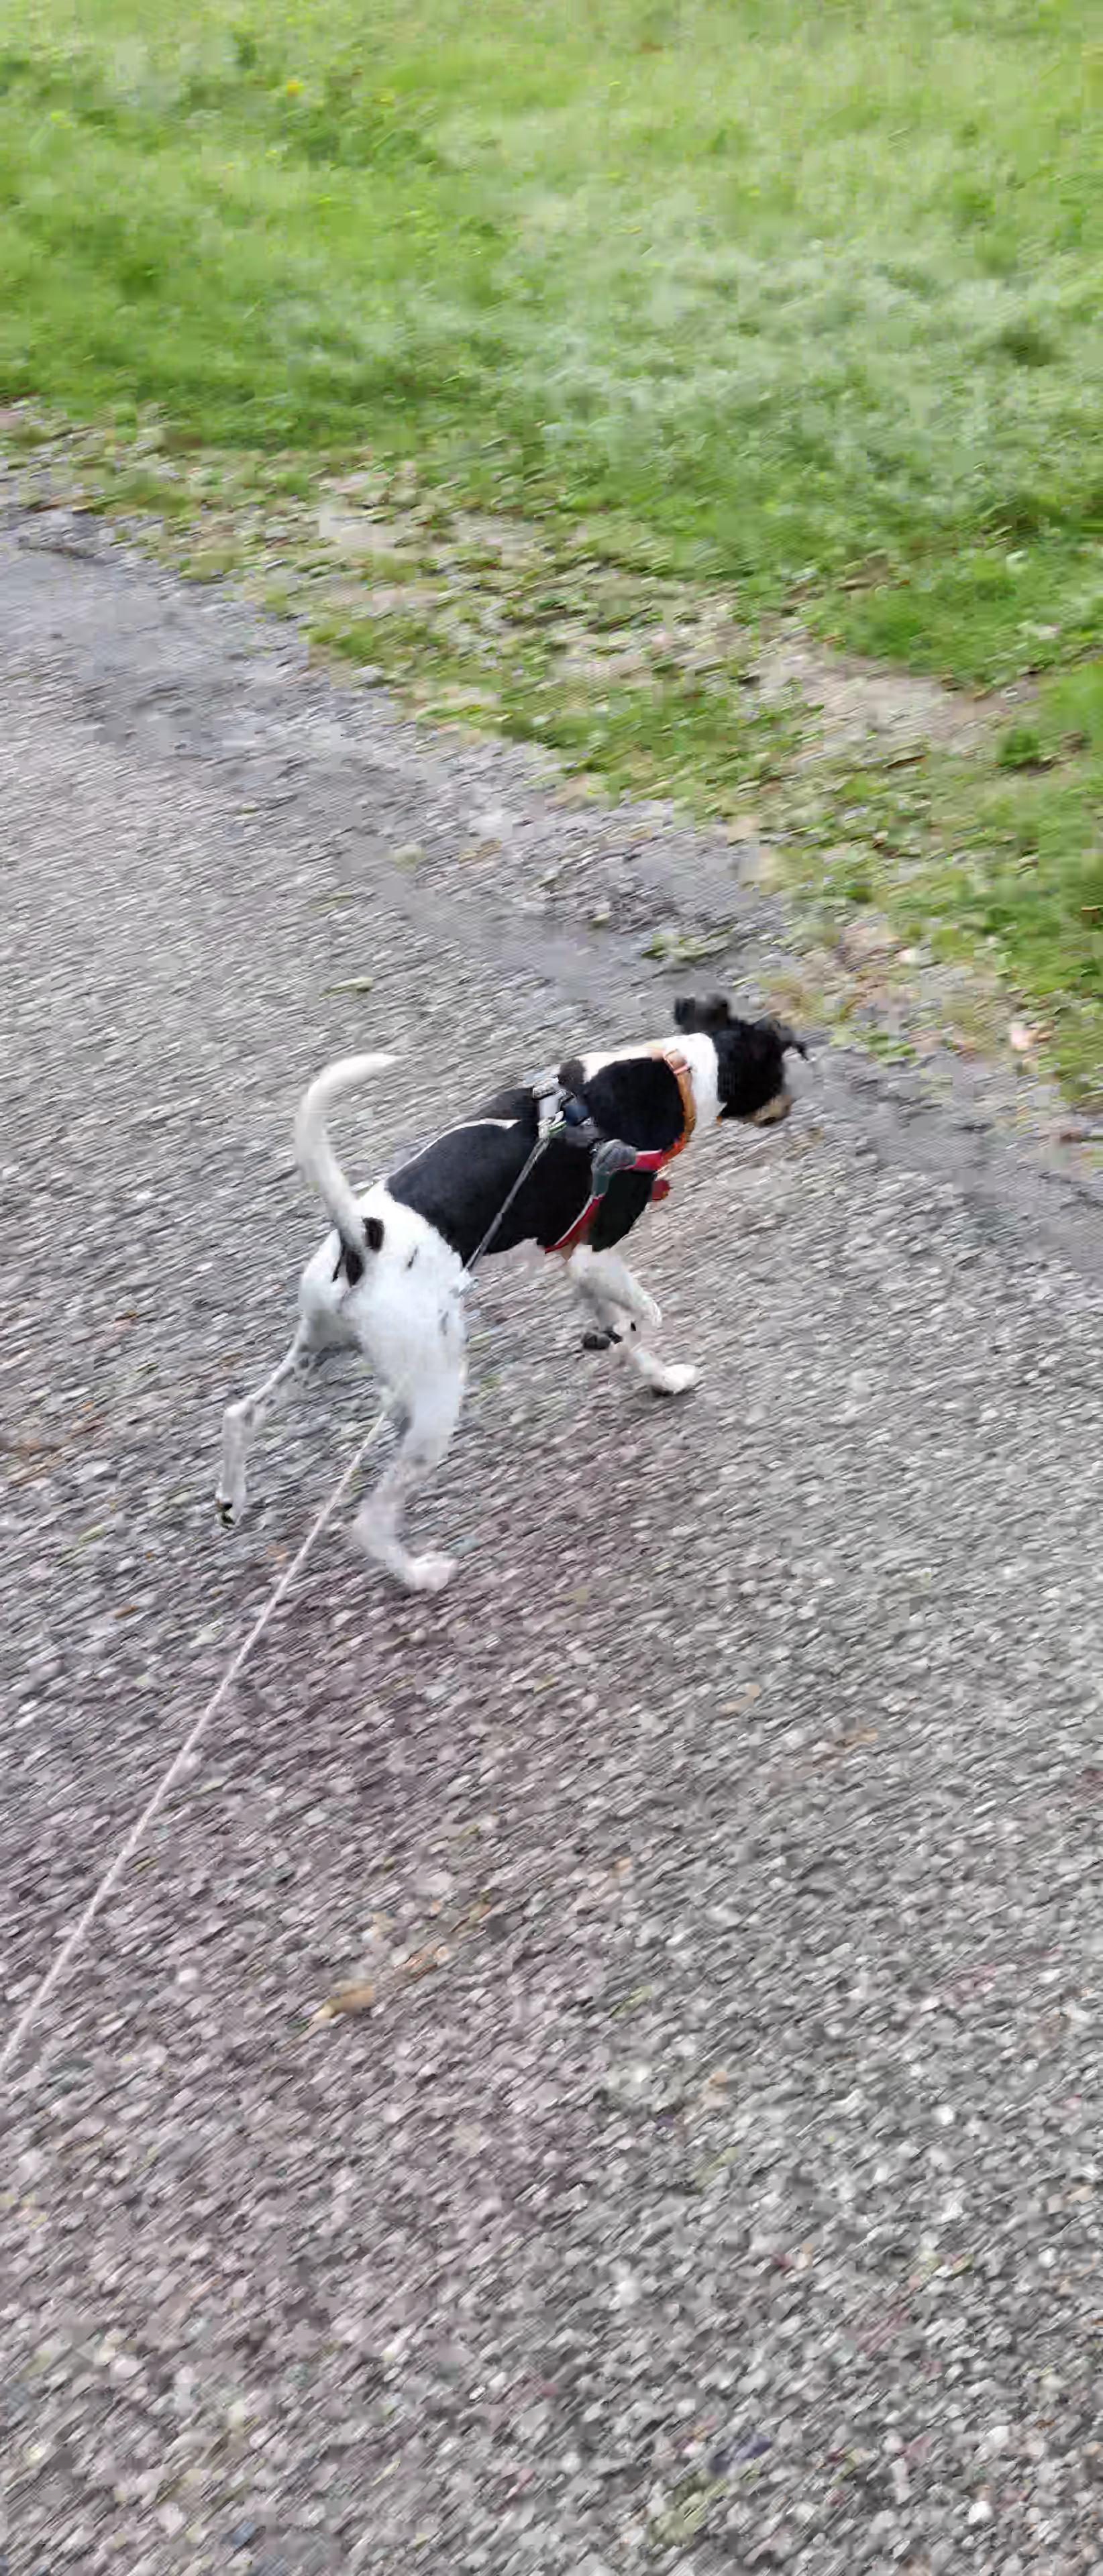Dog: (204, 992, 814, 1598)
